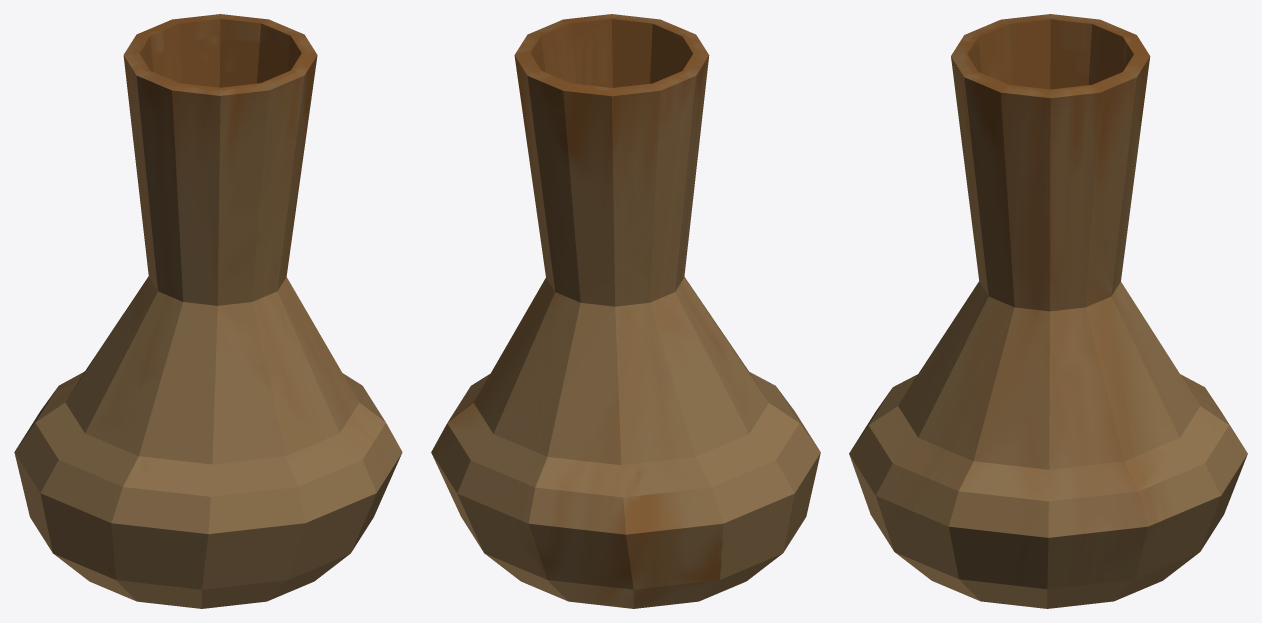
File: comlek2.fbx
3 renders of one model, left to right at view 1: azimuth 30°, elevation 25°; view 2: azimuth 150°, elevation 25°; view 3: azimuth 270°, elevation 25°, orthographic. The views are drawn at different scales.
Parts seen in each view (by area): view 1: vazo2; view 2: vazo2; view 3: vazo2.
Boxes of the visible parts, x1=… form: vazo2: x1=14, y1=14, x2=402, y2=608; vazo2: x1=431, y1=14, x2=820, y2=608; vazo2: x1=849, y1=14, x2=1247, y2=608.
Bounding box in the file's own units: 0.6586 × 0.9263 × 0.6586.
1 material, 1 textured.
